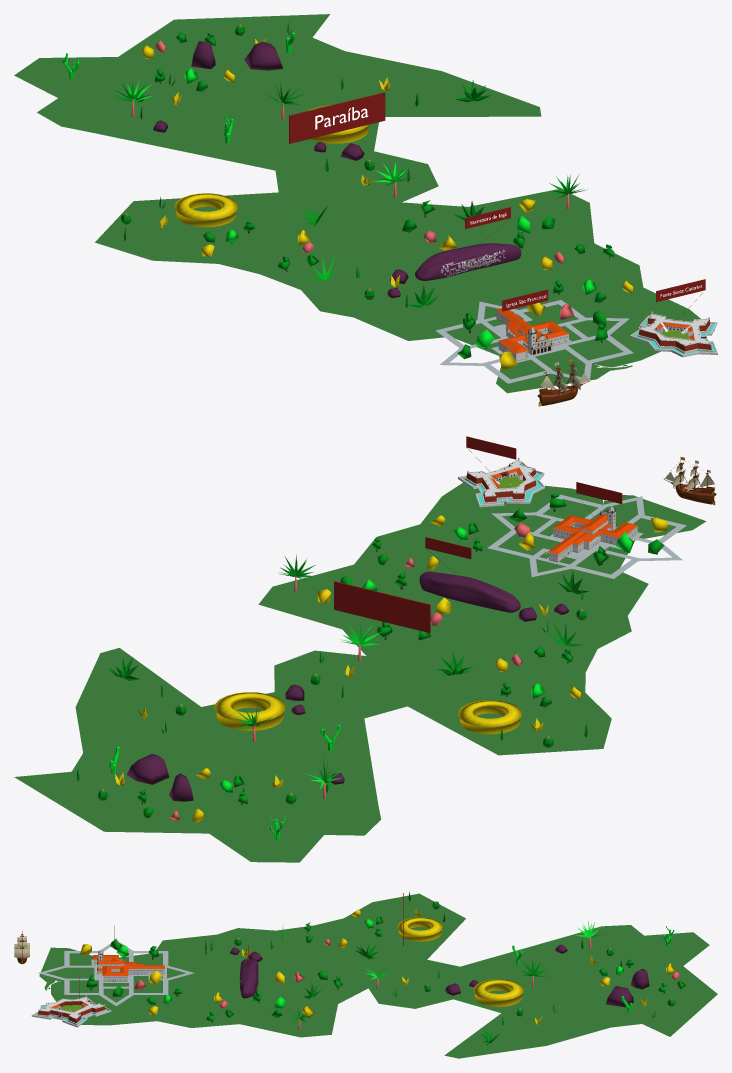
The model's file is projwic.glb.
3 views of the same model, one above another, from view 1: azimuth 30°, elevation 25°; view 2: azimuth 150°, elevation 25°; view 3: azimuth 270°, elevation 25° (orthographic). The views are drawn at different scales.
Parts seen in each view (by area): view 1: pb, Plane.095, Plane.044, Inga, Cylinder.005, Cube.083, Cube.033, Cube.021, Cube.022, Cube.002, Plane.012, Cube.036 (+1 smaller); view 2: pb, Plane.095, Plane.044, Inga, Cylinder.008, Cylinder.005, Cube.083, Cube.033, Cube.021, Cube.036, Plane.012, Cube.002 (+2 smaller); view 3: pb, Plane.095, Cylinder.008, Cylinder.005, Cube.083, Inga, Cube.033, Cube.022, Cube.002, Plane.012, Cube.010, Cube.021 (+5 smaller).
Boxes of the visible parts, x1=… form: pb: x1=14, y1=14, x2=714, y2=393; Plane.095: x1=435, y1=300, x2=633, y2=383; Plane.044: x1=289, y1=92, x2=385, y2=143; Inga: x1=415, y1=243, x2=521, y2=280; Cylinder.005: x1=174, y1=193, x2=237, y2=227; Cube.083: x1=457, y1=302, x2=608, y2=370; Cube.033: x1=402, y1=199, x2=555, y2=250; Cube.021: x1=201, y1=219, x2=319, y2=271; Cube.022: x1=539, y1=243, x2=633, y2=302; Cube.002: x1=140, y1=32, x2=235, y2=91; Plane.012: x1=630, y1=315, x2=717, y2=357; Cube.036: x1=244, y1=41, x2=282, y2=70; pb: x1=14, y1=482, x2=706, y2=862; Plane.095: x1=487, y1=494, x2=686, y2=578; Plane.044: x1=334, y1=581, x2=430, y2=632; Inga: x1=419, y1=571, x2=520, y2=612; Cylinder.008: x1=214, y1=692, x2=285, y2=730; Cylinder.005: x1=458, y1=700, x2=522, y2=734; Cube.083: x1=509, y1=493, x2=668, y2=565; Cube.033: x1=317, y1=572, x2=450, y2=640; Cube.021: x1=494, y1=647, x2=582, y2=707; Cube.036: x1=126, y1=754, x2=169, y2=784; Plane.012: x1=458, y1=461, x2=544, y2=507; Cube.002: x1=137, y1=768, x2=247, y2=822; pb: x1=39, y1=893, x2=717, y2=1058; Plane.095: x1=38, y1=940, x2=194, y2=1006; Cylinder.008: x1=473, y1=979, x2=523, y2=1006; Cylinder.005: x1=397, y1=917, x2=442, y2=941; Cube.083: x1=80, y1=938, x2=162, y2=996; Inga: x1=239, y1=959, x2=258, y2=998; Cube.033: x1=253, y1=970, x2=342, y2=1018; Cube.022: x1=147, y1=986, x2=233, y2=1022; Cube.002: x1=599, y1=957, x2=685, y2=993; Plane.012: x1=31, y1=998, x2=111, y2=1027; Cube.010: x1=98, y1=965, x2=128, y2=981; Cube.021: x1=304, y1=909, x2=383, y2=948.
Bounding box in the file's own units: 29.06 × 5.4 × 52.37.
48 materials, 4 textured.
